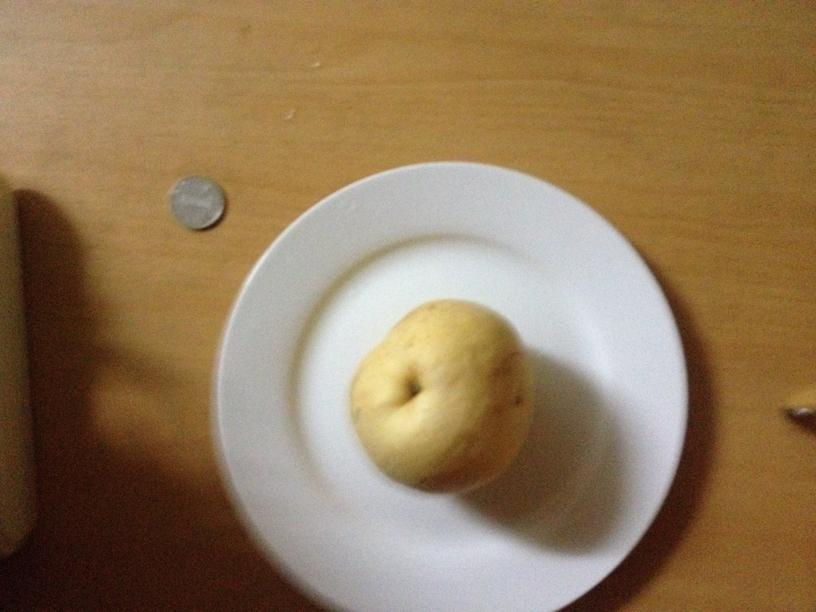coin: (167, 175, 227, 231)
pear: (349, 299, 532, 498)
